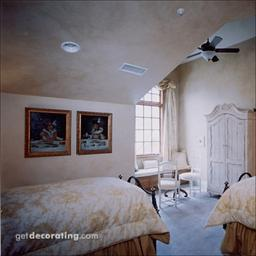Armario: (205, 106, 253, 191)
Cama: (4, 181, 166, 250), (221, 175, 255, 253)
Ventana: (135, 87, 169, 160)
